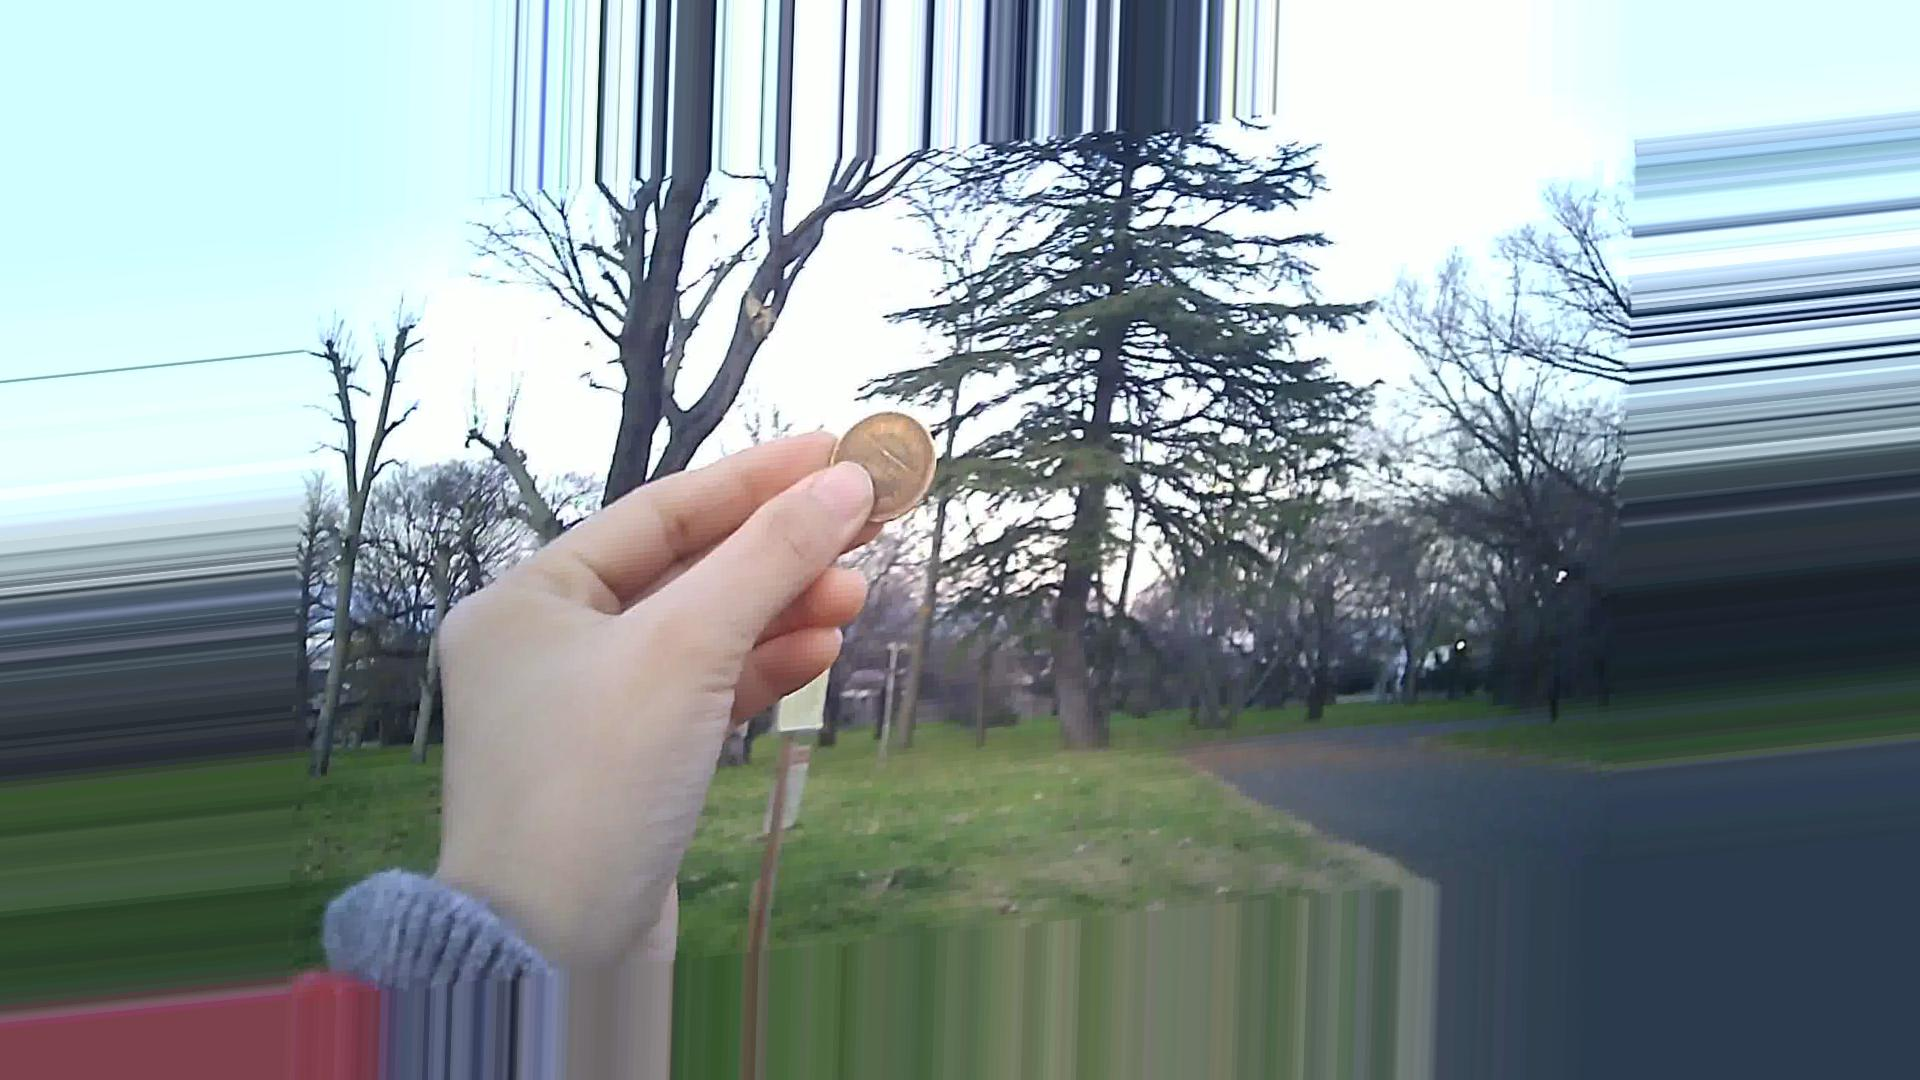10 Yen: (829, 394, 944, 527)
